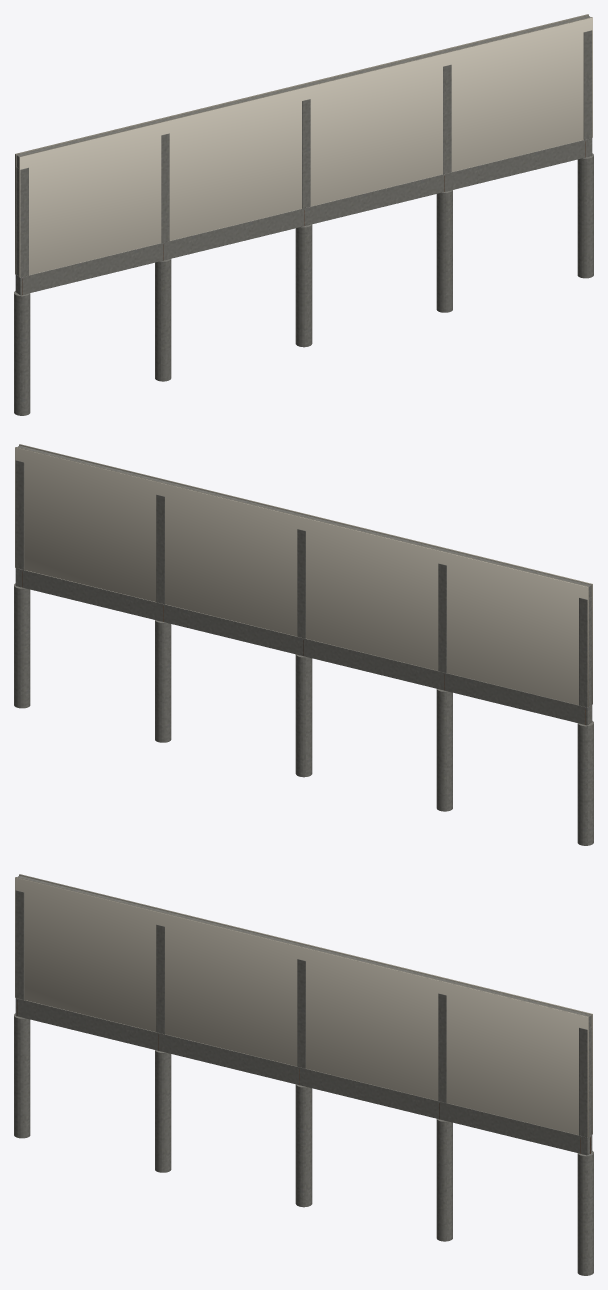
The model's file is KIT-ALV-05_lod1.glb.
The picture shows the model from 3 angles, top to bottom: view 1: azimuth 30°, elevation 25°; view 2: azimuth 150°, elevation 25°; view 3: azimuth 330°, elevation 25°; orthographic projection.
Parts seen in each view (by area): view 1: KIT-ALV-05_pinturaB, Viga baldrame, Broca 3, Broca 1, Broca 5, Broca 2, Broca 4, Cinta de amarração, KIT-ALV-05_rebocoA, Pilarete 1, Pilarete 5, Pilarete 4 (+3 smaller); view 2: KIT-ALV-05_pinturaA, Viga baldrame, Broca 3, Broca 1, Broca 5, Broca 2, Broca 4, Cinta de amarração, KIT-ALV-05_rebocoB, Pilarete 1, Pilarete 5, Pilarete 4 (+3 smaller); view 3: KIT-ALV-05_pinturaB, Viga baldrame, Broca 3, Broca 5, Broca 1, Broca 4, Broca 2, Cinta de amarração, KIT-ALV-05_rebocoA, Pilarete 5, Pilarete 1, Pilarete 2 (+3 smaller).
Part boxes in pixels (left/top/right/bottom): KIT-ALV-05_pinturaB: left=19, top=17, right=592, bottom=277; Viga baldrame: left=15, top=138, right=592, bottom=295; Broca 3: left=295, top=224, right=312, bottom=347; Broca 1: left=14, top=291, right=30, bottom=415; Broca 5: left=577, top=153, right=593, bottom=278; Broca 2: left=155, top=259, right=171, bottom=381; Broca 4: left=436, top=190, right=452, bottom=312; Cinta de amarração: left=16, top=15, right=590, bottom=168; KIT-ALV-05_rebocoA: left=15, top=14, right=588, bottom=274; Pilarete 1: left=16, top=167, right=28, bottom=277; Pilarete 5: left=583, top=30, right=592, bottom=139; Pilarete 4: left=443, top=64, right=451, bottom=174; KIT-ALV-05_pinturaA: left=15, top=447, right=588, bottom=707; Viga baldrame: left=15, top=568, right=592, bottom=725; Broca 3: left=295, top=654, right=312, bottom=777; Broca 1: left=577, top=721, right=593, bottom=845; Broca 5: left=14, top=583, right=30, bottom=708; Broca 2: left=436, top=689, right=452, bottom=811; Broca 4: left=155, top=620, right=171, bottom=742; Cinta de amarração: left=17, top=445, right=591, bottom=598; KIT-ALV-05_rebocoB: left=19, top=444, right=592, bottom=704; Pilarete 1: left=579, top=597, right=591, bottom=707; Pilarete 5: left=15, top=460, right=24, bottom=569; Pilarete 4: left=156, top=494, right=164, bottom=604; KIT-ALV-05_pinturaB: left=15, top=877, right=588, bottom=1137; Viga baldrame: left=15, top=998, right=592, bottom=1155; Broca 3: left=295, top=1084, right=312, bottom=1207; Broca 5: left=577, top=1151, right=593, bottom=1275; Broca 1: left=14, top=1013, right=30, bottom=1138; Broca 4: left=436, top=1119, right=452, bottom=1241; Broca 2: left=155, top=1050, right=171, bottom=1172; Cinta de amarração: left=17, top=875, right=591, bottom=1028; KIT-ALV-05_rebocoA: left=19, top=874, right=592, bottom=1134; Pilarete 5: left=579, top=1027, right=591, bottom=1137; Pilarete 1: left=15, top=890, right=24, bottom=999; Pilarete 2: left=156, top=924, right=164, bottom=1034.
Size of the model in its own units: 10.1 by 4.31 by 0.25.
6 materials, 5 textured.
